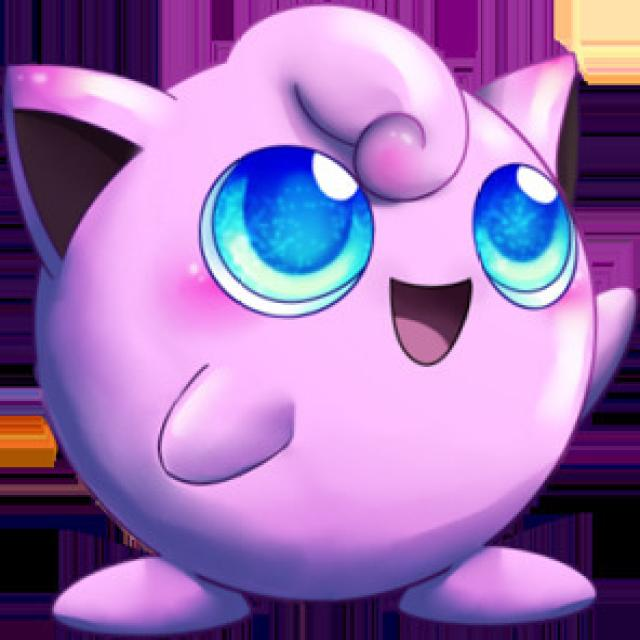Jigglypuff: (21, 16, 603, 610)
